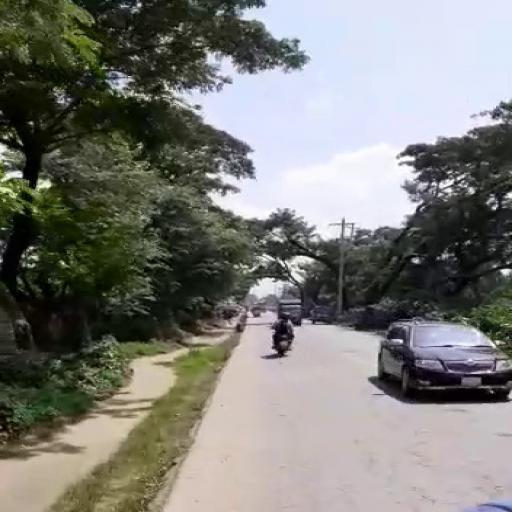car: (376, 321, 510, 401)
motorbike: (270, 326, 292, 356)
